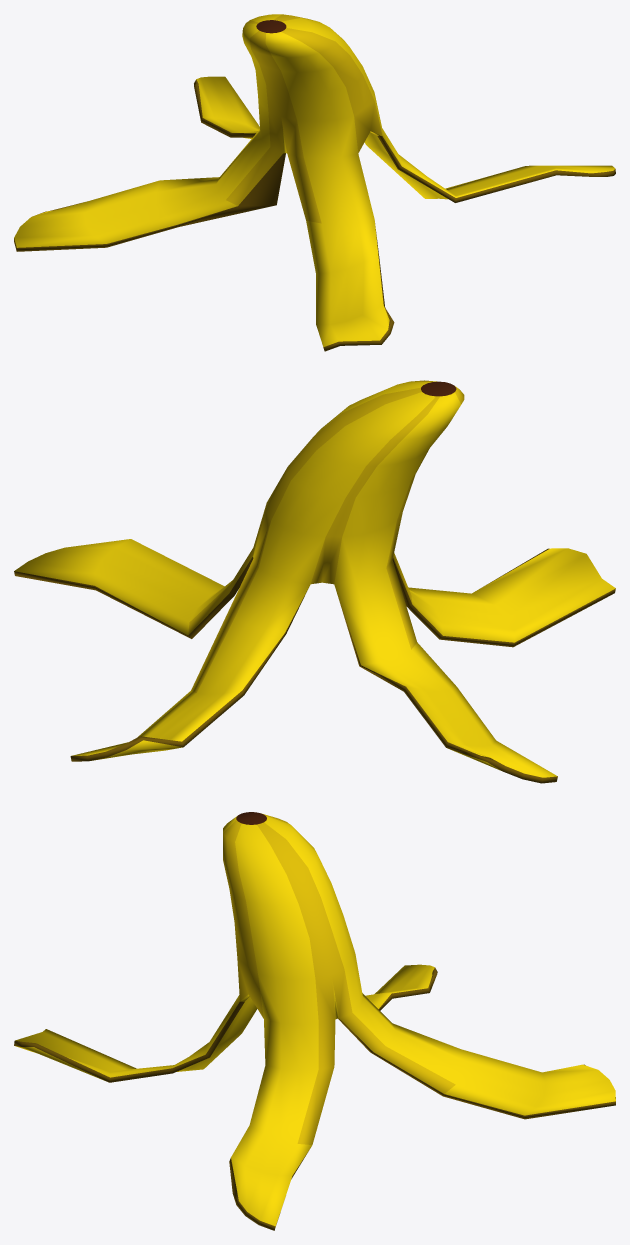
The model's file is BANANA PEEL.FBX.
3 views of the same model, one above another, from view 1: azimuth 30°, elevation 25°; view 2: azimuth 150°, elevation 25°; view 3: azimuth 270°, elevation 25° (orthographic). The views are drawn at different scales.
Parts seen in each view (by area): view 1: Cylinder001; view 2: Cylinder001; view 3: Cylinder001.
Part boxes in pixels (x1,y1,x2,y2): Cylinder001: [14, 14, 615, 351]; Cylinder001: [14, 380, 615, 783]; Cylinder001: [14, 812, 615, 1230].
Size of the model in its own units: 118 by 55.18 by 115.
